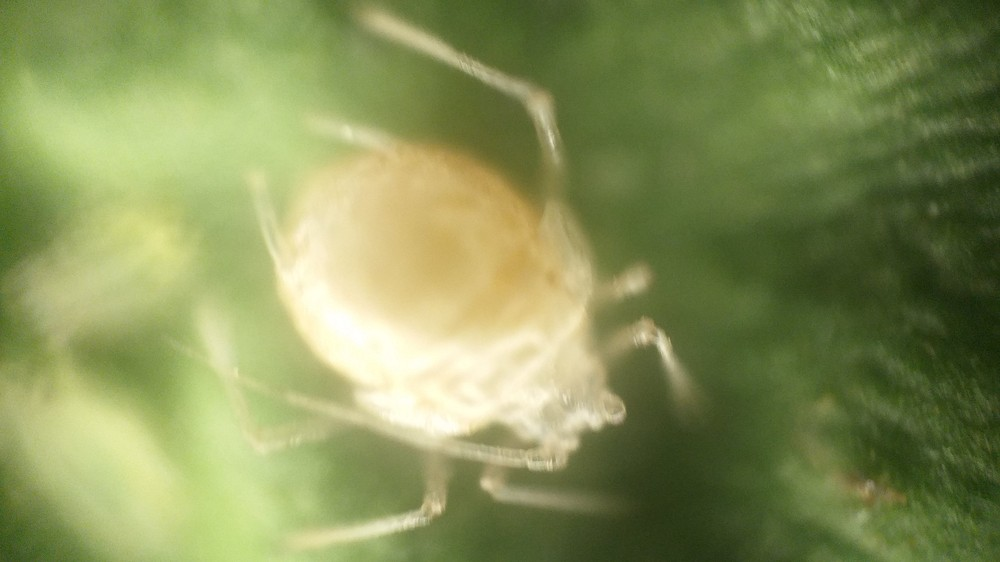Pulgon: (192, 24, 715, 558)
